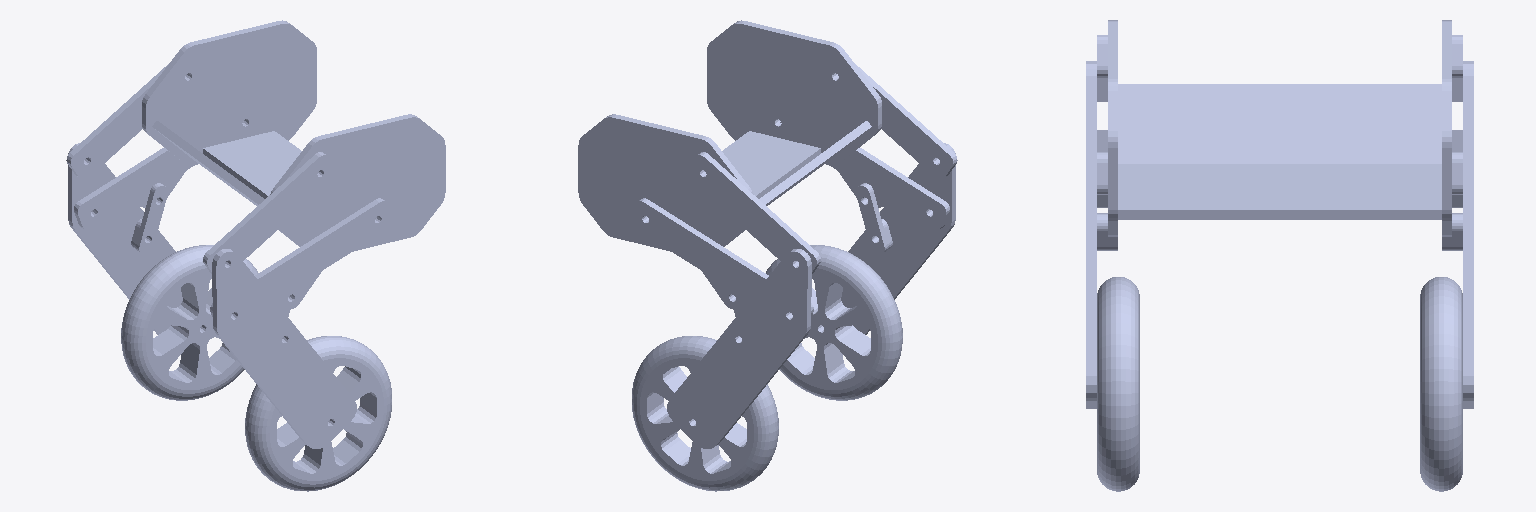
robot.urdf — Robot-0411-1400:
<?xml version="1.0" encoding="utf-8"?>
<!-- This URDF was automatically created by SolidWorks to URDF Exporter! Originally created by [author] ([email redacted]) 
     Commit Version: 1.6.0-4-g7f85cfe  Build Version: 1.6.7995.38578
     For more information, please see http://wiki.ros.org/sw_urdf_exporter -->
<robot
  name="Robot-0411-1400">
  <link
    name="Body">
    <inertial>
      <origin
        xyz="-0.0269364590999195 0.0750000000000001 -0.0333020701103129"
        rpy="0 0 0" />
      <mass
        value="0.259687822807211" />
      <inertia
        ixx="0.000263883767567918"
        ixy="1.03789660179479E-19"
        ixz="2.83874959864717E-05"
        iyy="0.00029022151243818"
        iyz="-1.14819286467261E-19"
        izz="0.000304338639837751" />
    </inertial>
    <visual>
      <origin
        xyz="0 0 0"
        rpy="0 0 0" />
      <geometry>
        <mesh
          filename="package://robot_description/meshes/Body.STL" />
      </geometry>
      <material
        name="">
        <color
          rgba="0.792156862745098 0.819607843137255 0.933333333333333 1" />
      </material>
    </visual>
    <collision>
      <origin
        xyz="0 0 0"
        rpy="0 0 0" />
      <geometry>
        <mesh
          filename="package://robot_description/meshes/Body.STL" />
      </geometry>
    </collision>
  </link>
  <link
    name="Wheel_1">
    <inertial>
      <origin
        xyz="-1.38777878078145E-17 1.89387097171004E-17 0"
        rpy="0 0 0" />
      <mass
        value="0.0981527452118755" />
      <inertia
        ixx="7.13246475399757E-05"
        ixy="-1.04144755691584E-20"
        ixz="5.2206685043356E-20"
        iyy="0.00013687545343136"
        iyz="2.41289959932004E-21"
        izz="7.13246475399756E-05" />
    </inertial>
    <visual>
      <origin
        xyz="0 0 0"
        rpy="0 0 0" />
      <geometry>
        <mesh
          filename="package://robot_description/meshes/Wheel_1.STL" />
      </geometry>
      <material
        name="">
        <color
          rgba="0.792156862745098 0.819607843137255 0.933333333333333 1" />
      </material>
    </visual>
    <collision>
      <origin
        xyz="0 0 0"
        rpy="0 0 0" />
      <geometry>
        <mesh
          filename="package://robot_description/meshes/Wheel_1.STL" />
      </geometry>
    </collision>
  </link>
  <joint
    name="Wheel_1"
    type="continuous">
    <origin
      xyz="-0.025708 0 -0.14522"
      rpy="0 0 0" />
    <parent
      link="Body" />
    <child
      link="Wheel_1" />
    <axis
      xyz="0 -1 0" />
  </joint>
  <link
    name="Wheel_2">
    <inertial>
      <origin
        xyz="8.46545056276682E-16 0.01 0"
        rpy="0 0 0" />
      <mass
        value="0.0981527452118754" />
      <inertia
        ixx="7.13246475399757E-05"
        ixy="1.19369642570729E-20"
        ixz="5.10267040368649E-20"
        iyy="0.00013687545343136"
        iyz="-2.66693715768763E-21"
        izz="7.13246475399756E-05" />
    </inertial>
    <visual>
      <origin
        xyz="0 0 0"
        rpy="0 0 0" />
      <geometry>
        <mesh
          filename="package://robot_description/meshes/Wheel_2.STL" />
      </geometry>
      <material
        name="">
        <color
          rgba="0.792156862745098 0.819607843137255 0.933333333333333 1" />
      </material>
    </visual>
    <collision>
      <origin
        xyz="0 0 0"
        rpy="0 0 0" />
      <geometry>
        <mesh
          filename="package://robot_description/meshes/Wheel_2.STL" />
      </geometry>
    </collision>
  </link>
  <joint
    name="Wheel_2"
    type="continuous">
    <origin
      xyz="-0.025708 0.14 -0.14522"
      rpy="0 0 0" />
    <parent
      link="Body" />
    <child
      link="Wheel_2" />
    <axis
      xyz="0 -1 0" />
  </joint>
</robot>

--- Facts derived from the render (not from the file) ---
Views: 3 orthographic renders of the robot side by side, from view 1: azimuth 30°, elevation 25°; view 2: azimuth 150°, elevation 25°; view 3: azimuth 270°, elevation 25°.
Model Robot-0411-1400 with 3 links and 2 joints (2 continuous), rooted at Body, posed every joint at zero.
Visible links, largest first — view 1: Body, Wheel_2, Wheel_1; view 2: Body, Wheel_1, Wheel_2; view 3: Body, Wheel_1, Wheel_2.
Link boxes in pixels (x1,y1,x2,y2): Body: [66, 20, 445, 448]; Wheel_2: [121, 245, 257, 400]; Wheel_1: [245, 336, 391, 491]; Body: [578, 20, 957, 448]; Wheel_1: [766, 245, 902, 400]; Wheel_2: [632, 336, 778, 491]; Body: [1086, 20, 1473, 408]; Wheel_1: [1097, 277, 1139, 491]; Wheel_2: [1420, 277, 1462, 491].
Size in the robot's own frame: 0.1696 by 0.18 by 0.2351 metres.
Meshes: 3 distinct files referenced, 3 mesh visuals loaded (3 binary STL).